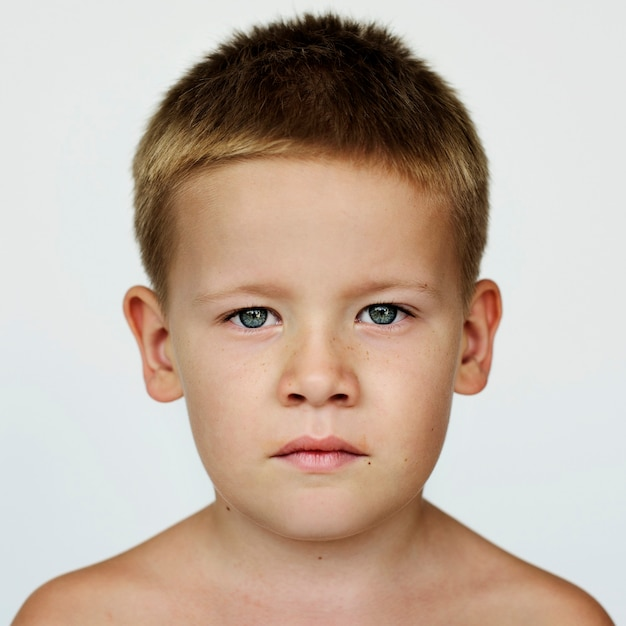teen: (127, 56, 496, 524)
